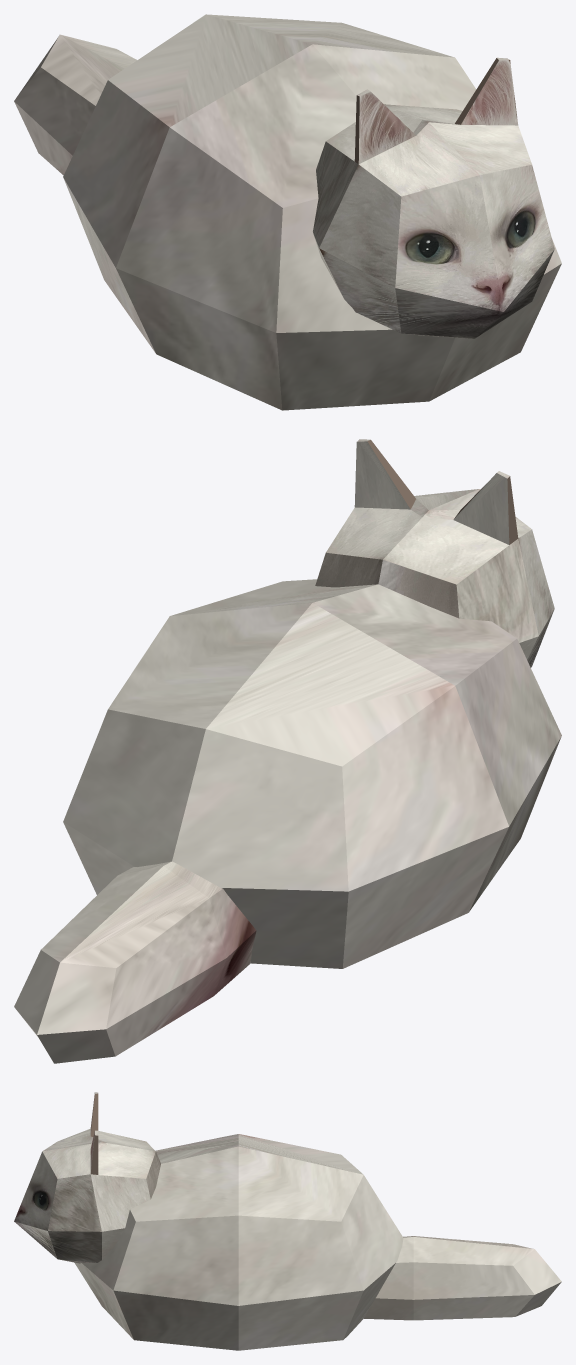
File: cat.glb
3 renders of one model, top to bottom at view 1: azimuth 30°, elevation 25°; view 2: azimuth 150°, elevation 25°; view 3: azimuth 270°, elevation 25°, orthographic. The views are drawn at different scales.
Visible parts, largest first — view 1: CAT.001, CAT.002, CAT; view 2: CAT.001, CAT, CAT.002; view 3: CAT.001, CAT.002, CAT.
Boxes of the visible parts, x1,y1,x2,y2 form: CAT.001: [63, 14, 561, 410]; CAT.002: [313, 57, 554, 338]; CAT: [14, 34, 136, 175]; CAT.001: [63, 579, 561, 968]; CAT: [14, 861, 256, 1063]; CAT.002: [315, 439, 554, 667]; CAT.001: [74, 1134, 403, 1350]; CAT.002: [14, 1092, 160, 1263]; CAT: [364, 1236, 561, 1320].
Size of the model in its own units: 1.96 by 1.58 by 4.04.
1 material, 1 textured.
